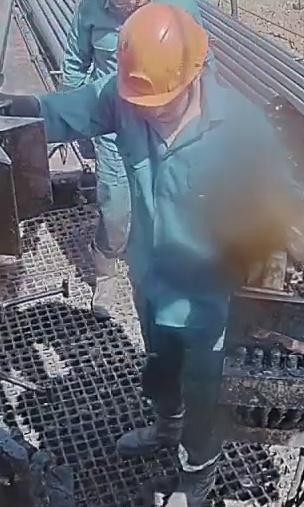gloves: (47, 140, 71, 167)
helmet: (115, 1, 208, 107)
vest: (93, 65, 282, 330), (69, 10, 116, 78)
